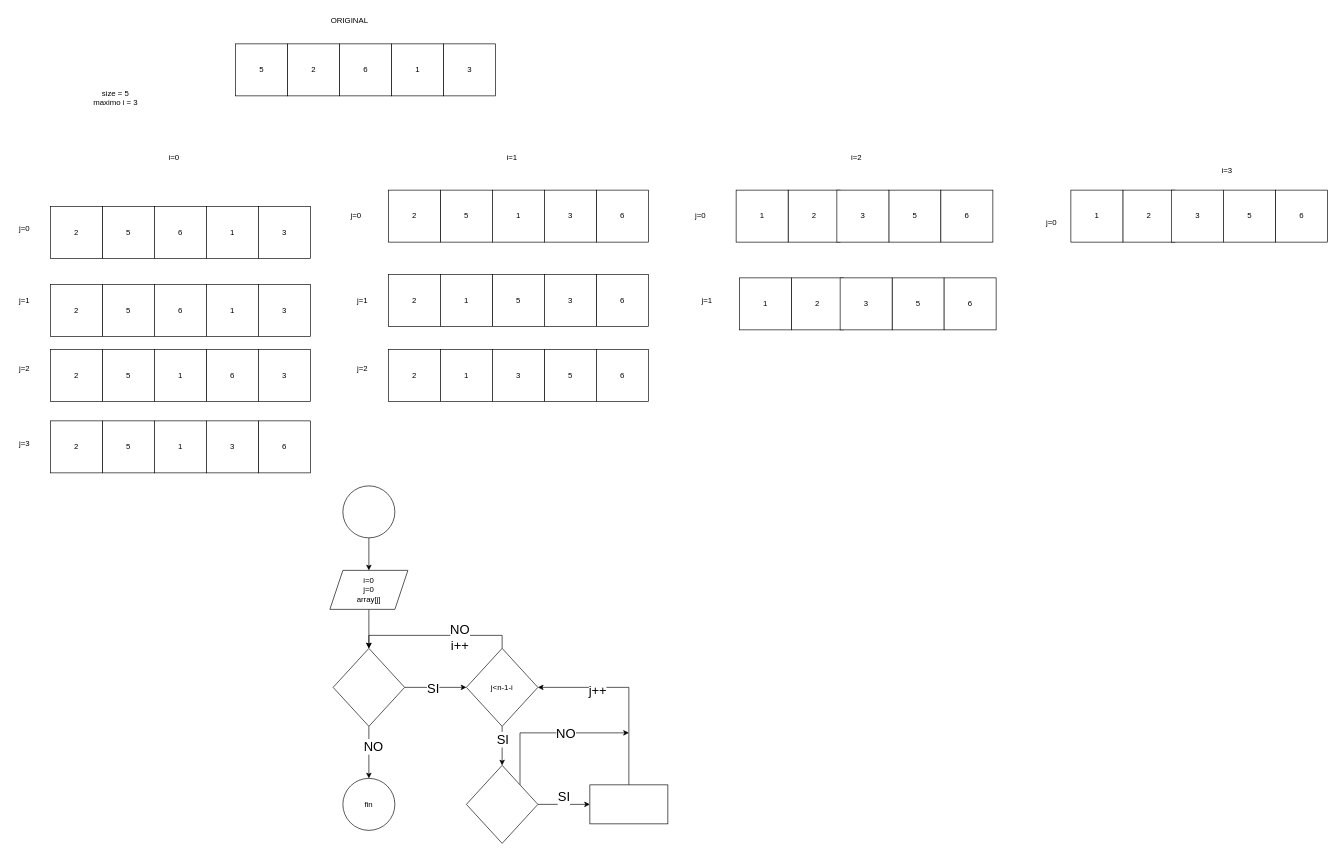
Image size: 1339x855. Some labels were removed from this diagram. Here are the shapes that lost their labels. From the top down, the box of each, then its label:
(342, 485, 395, 538): inicio
(332, 648, 405, 726): i<n-1
(466, 765, 538, 843): array[j]>array[j+1]
(589, 784, 668, 824): aux = array[j] array[j]=array[j+1] array[j+1]=aux
